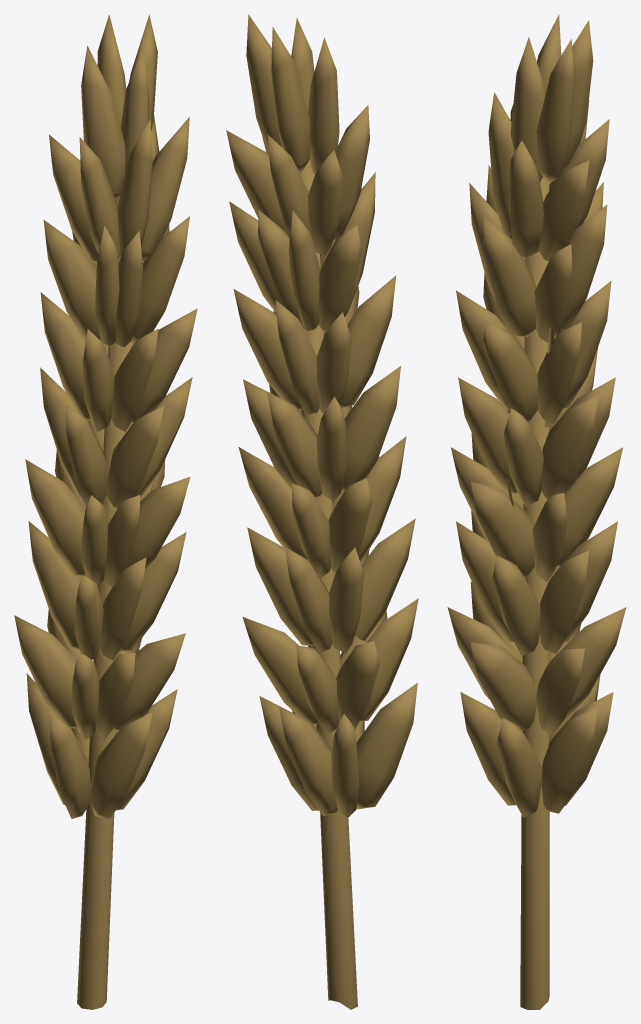
File: wheat 1.fbx
The picture shows the model from 3 angles, left to right: view 1: azimuth 30°, elevation 25°; view 2: azimuth 150°, elevation 25°; view 3: azimuth 270°, elevation 25°; orthographic projection. The views are drawn at different scales.
Parts seen in each view (by area): view 1: Wheat; view 2: Wheat; view 3: Wheat.
Part boxes in pixels (x1,y1,x2,y2): Wheat: [14, 14, 197, 1009]; Wheat: [226, 14, 418, 1009]; Wheat: [447, 15, 626, 1009].
Size of the model in its own units: 0.1248 by 0.7583 by 0.1221.
